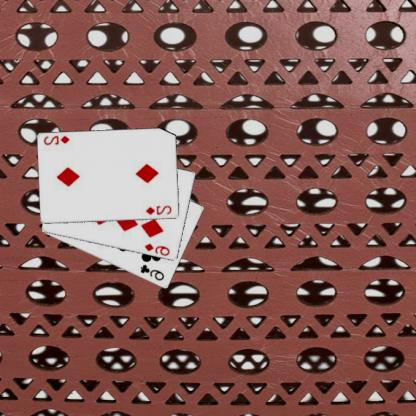2D: (145, 203, 175, 217), (43, 133, 72, 146)
9C: (140, 262, 168, 282)
9D: (144, 241, 173, 257)
